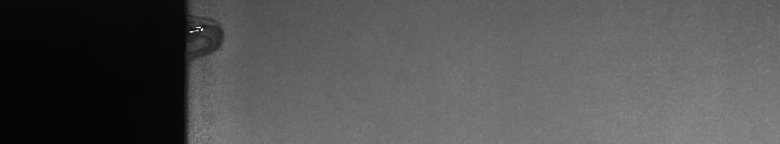hb: (196, 8, 231, 136)
